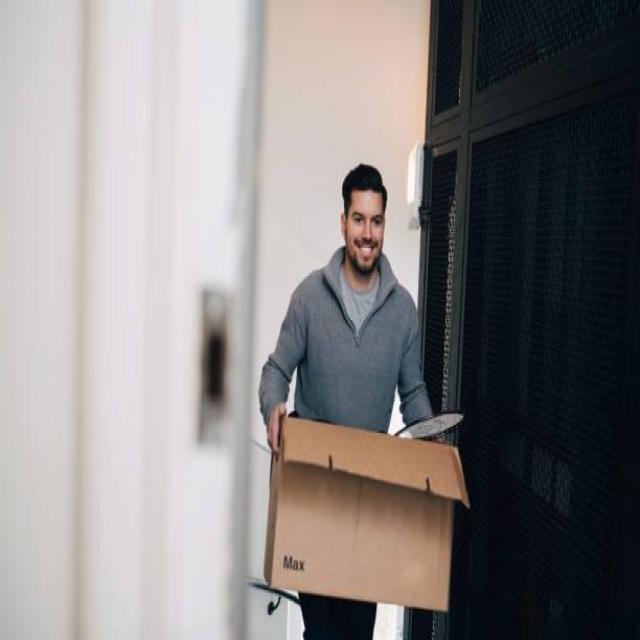box: (263, 407, 466, 632)
